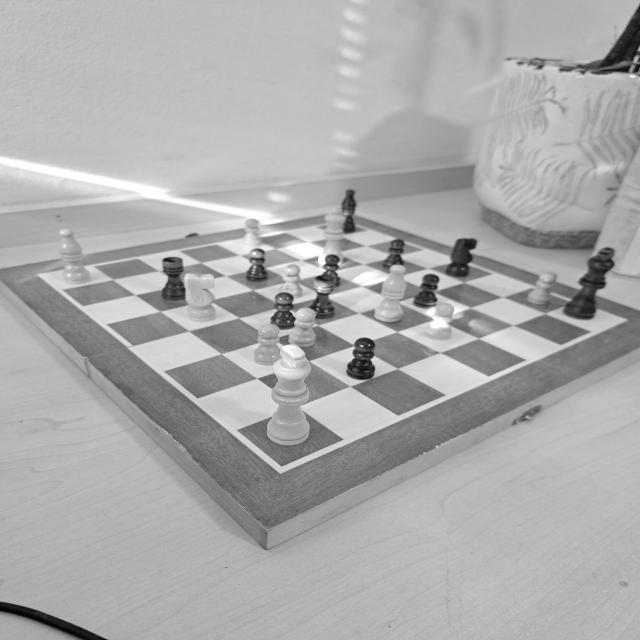chess-table-corners: (265, 456, 297, 478), (611, 315, 630, 326), (36, 270, 54, 281)
